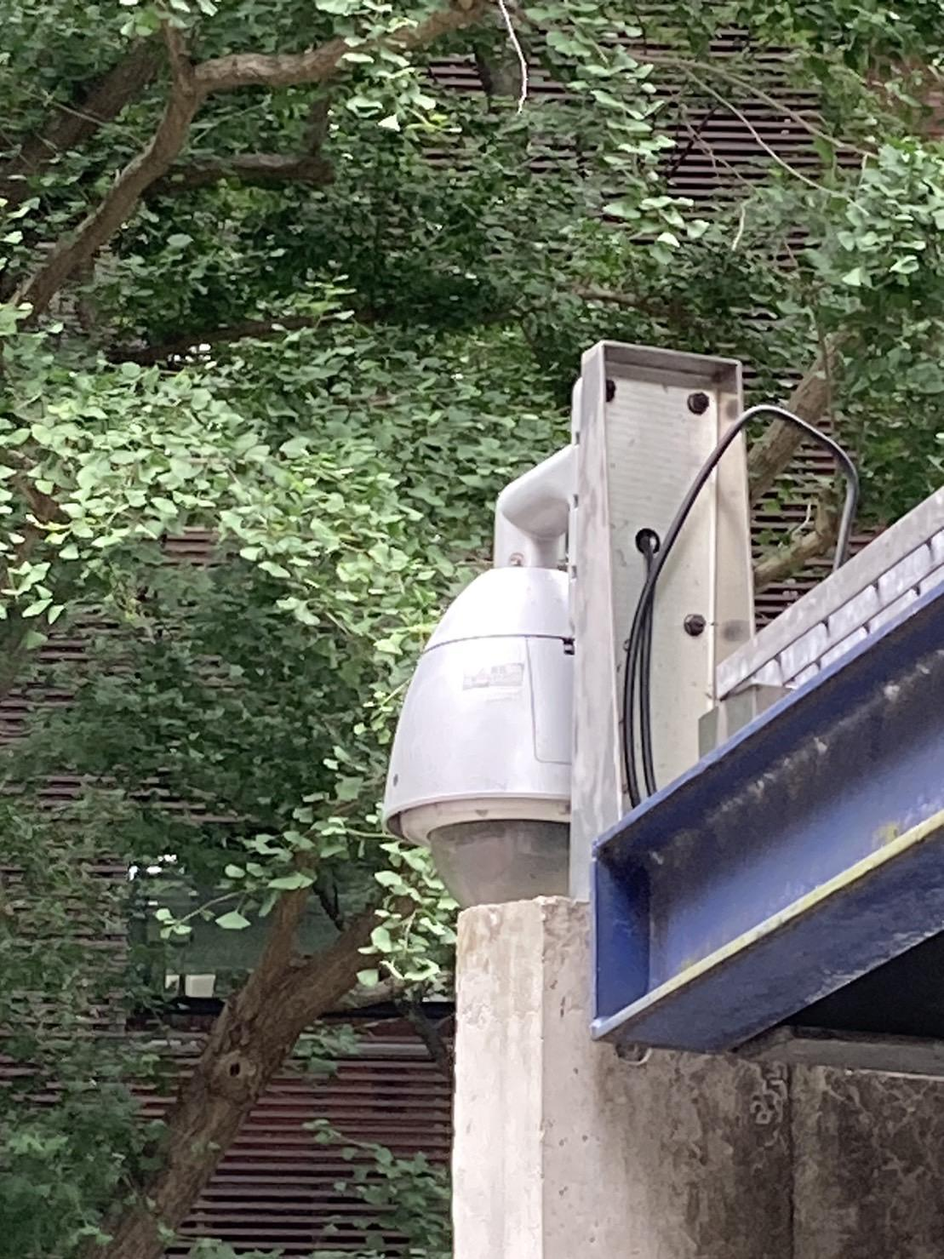maru: (369, 530, 638, 952)
